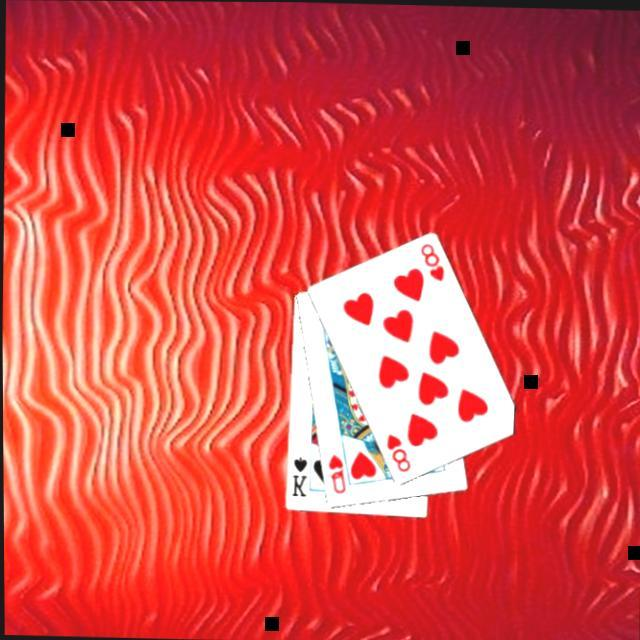8H: (380, 432, 412, 477), (414, 241, 446, 285)
KS: (286, 455, 308, 501)
QH: (322, 453, 347, 498)
